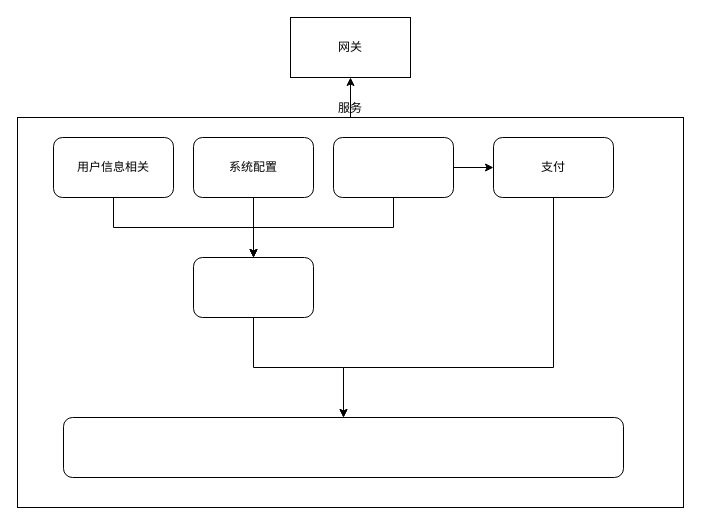
This 701x525 diagram has some shape labels left out. Here are the shapes that lost their labels. From the top down, the centre of each, then its label:
At (x=393, y=167): "道具信息".
At (x=253, y=287): "玩法计算".
At (x=343, y=447): "任务、日志（信息采集）".
